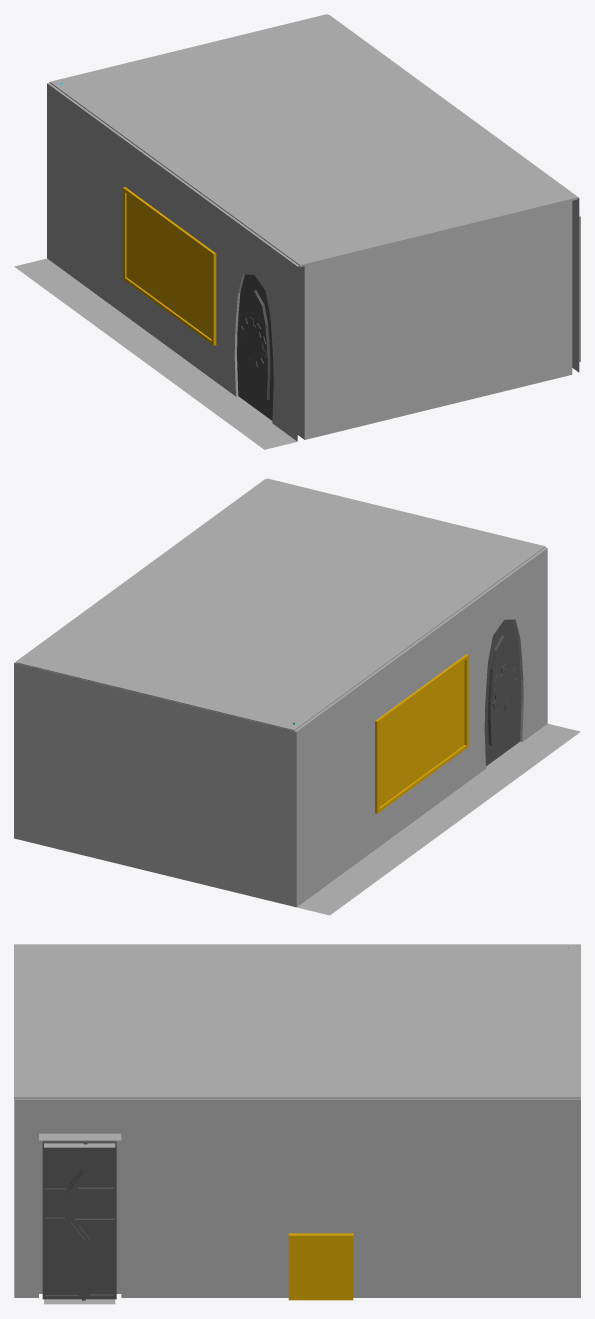
Rendered from Security_Room_01.fbx.
The picture shows the model from 3 angles, top to bottom: view 1: azimuth 30°, elevation 25°; view 2: azimuth 150°, elevation 25°; view 3: azimuth 270°, elevation 25°; orthographic projection. The views are drawn at different scales.
Parts seen in each view (by area): view 1: polySurface23, CEILING_SR_GEO_01, pCube206, ARMORED_DOOR_SR_GEO_03, Wall_SR_GEO_02, ARMORED_DOOR_SR_GEO_02; view 2: polySurface23, CEILING_SR_GEO_01, pCube206, ARMORED_DOOR_SR_GEO_03, Wall_SR_GEO_02, ARMORED_DOOR_SR_GEO_02; view 3: polySurface23, CEILING_SR_GEO_01, SECURITY_DOOR_SR_RT_GROUP_01, SECURITY_DOOR_SR_LF_GROUP_01, STORAGE_DRAWERS_SR_GEO_08.
Boxes of the visible parts, x1=… form: polySurface23: x1=14, y1=14, x2=580, y2=449; CEILING_SR_GEO_01: x1=49, y1=14, x2=577, y2=266; pCube206: x1=126, y1=194, x2=211, y2=338; ARMORED_DOOR_SR_GEO_03: x1=237, y1=274, x2=273, y2=420; Wall_SR_GEO_02: x1=122, y1=187, x2=216, y2=345; ARMORED_DOOR_SR_GEO_02: x1=240, y1=317, x2=266, y2=367; polySurface23: x1=14, y1=479, x2=580, y2=915; CEILING_SR_GEO_01: x1=16, y1=478, x2=545, y2=730; pCube206: x1=379, y1=661, x2=464, y2=806; ARMORED_DOOR_SR_GEO_03: x1=484, y1=619, x2=521, y2=766; Wall_SR_GEO_02: x1=375, y1=654, x2=468, y2=813; ARMORED_DOOR_SR_GEO_02: x1=491, y1=662, x2=518, y2=712; polySurface23: x1=14, y1=944, x2=580, y2=1304; CEILING_SR_GEO_01: x1=14, y1=944, x2=580, y2=1099; SECURITY_DOOR_SR_RT_GROUP_01: x1=42, y1=1140, x2=87, y2=1300; SECURITY_DOOR_SR_LF_GROUP_01: x1=71, y1=1140, x2=116, y2=1299; STORAGE_DRAWERS_SR_GEO_08: x1=288, y1=1233, x2=353, y2=1300.
Size of the model in its own units: 19.47 by 10.34 by 25.81.
